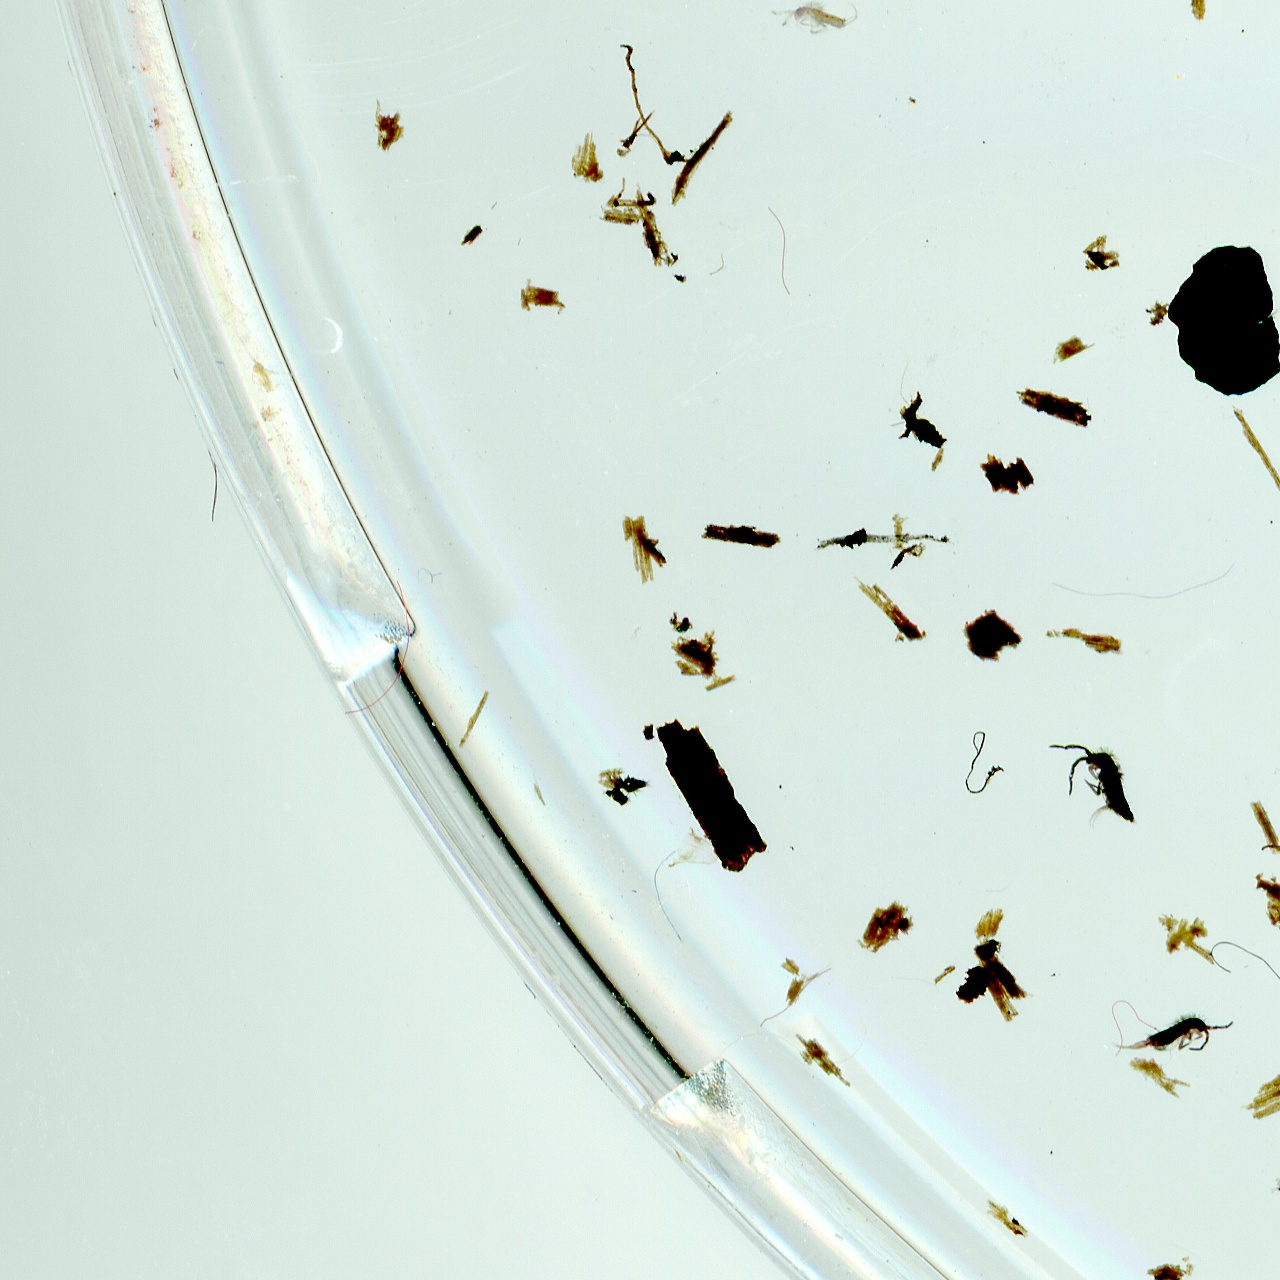arthropod: (1042, 738, 1144, 833), (1107, 1006, 1237, 1060), (767, 0, 864, 39)
